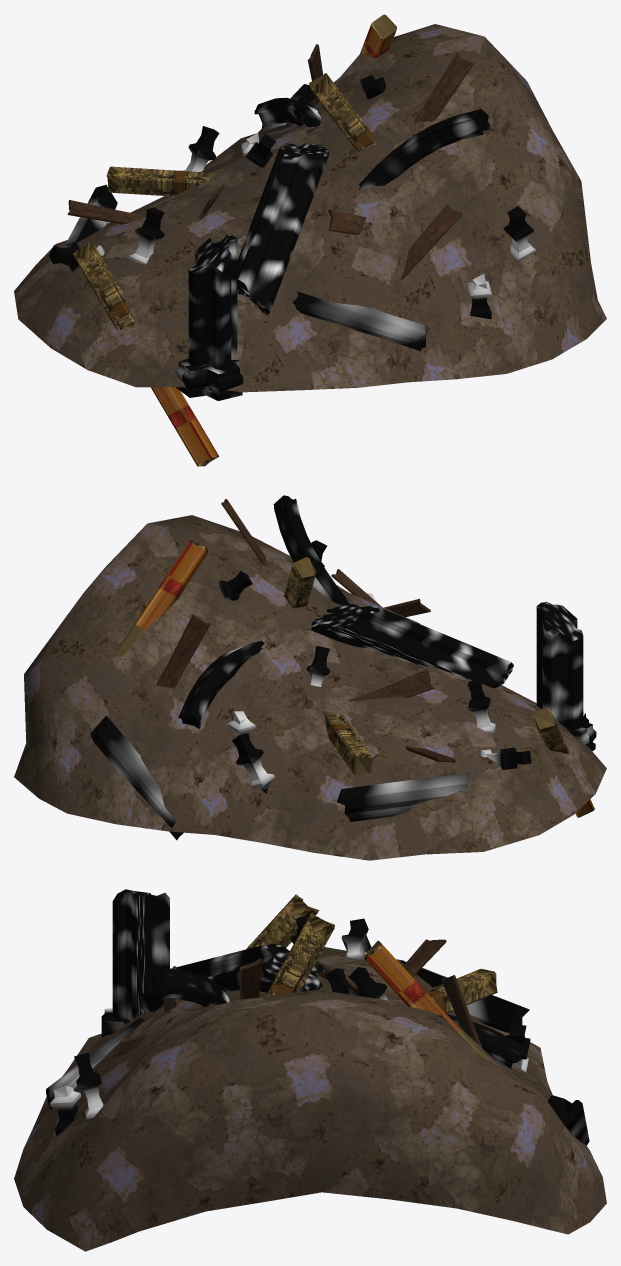
File: SpawnerRubbleB.fbx
3 renders of one model, top to bottom at view 1: azimuth 30°, elevation 25°; view 2: azimuth 150°, elevation 25°; view 3: azimuth 270°, elevation 25°, orthographic. The views are drawn at different scales.
Parts seen in each view (by area): view 1: SpawnerRubbleB; view 2: SpawnerRubbleB; view 3: SpawnerRubbleB.
Part boxes in pixels (box(x1,y1,x2,y2)): SpawnerRubbleB: box(14, 14, 606, 466); SpawnerRubbleB: box(14, 495, 606, 860); SpawnerRubbleB: box(14, 889, 606, 1251).
Size of the model in its own units: 902 by 529 by 846.
